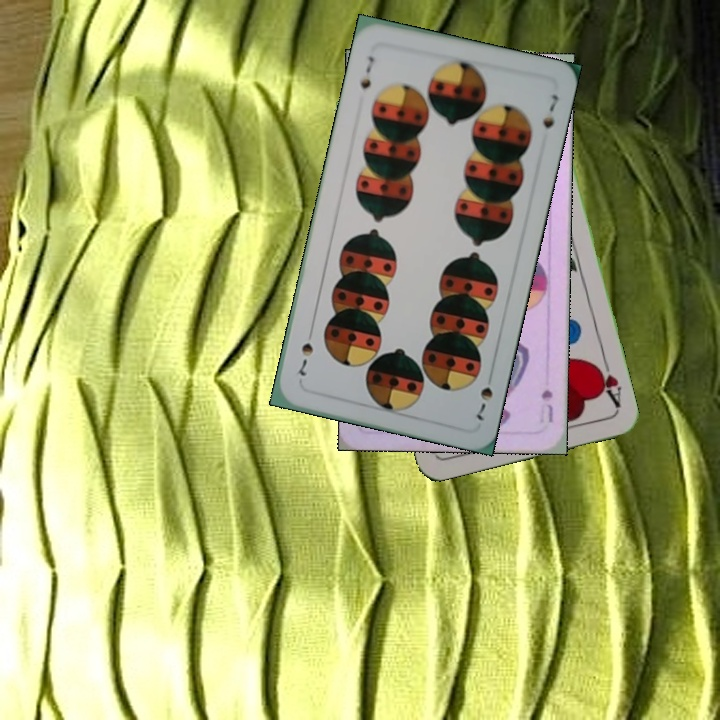HA: (591, 352, 624, 410)
S7: (472, 383, 496, 423), (356, 51, 377, 92)
SU: (535, 385, 556, 426)
